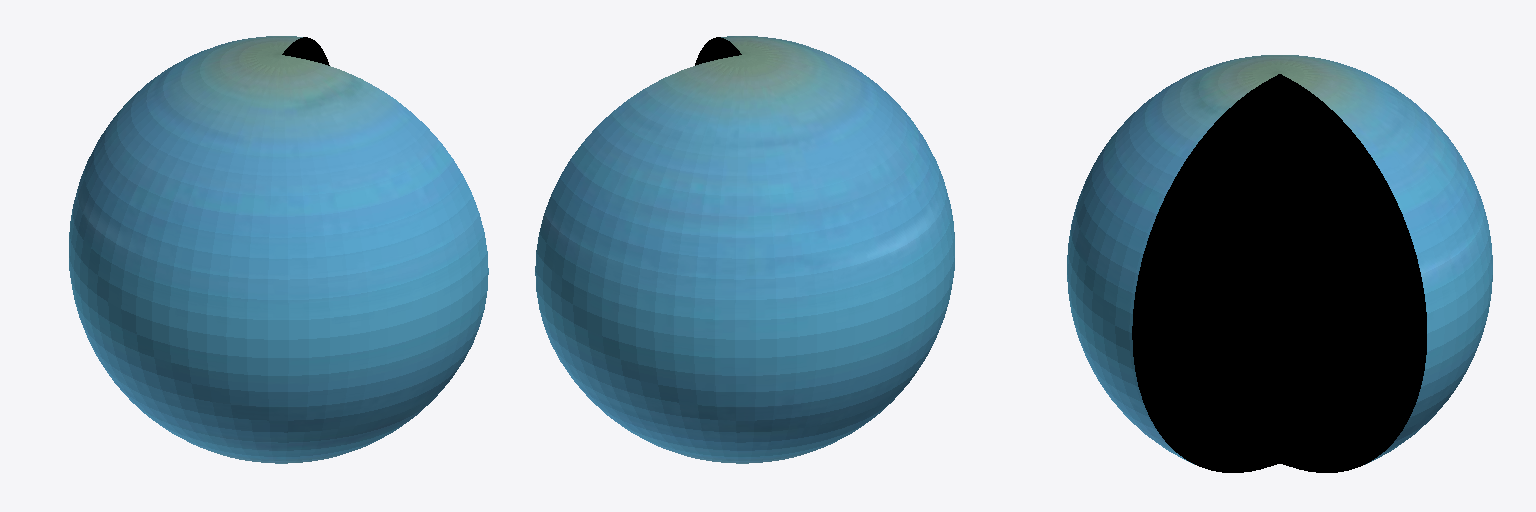
3 views of the same model, side by side, from view 1: azimuth 30°, elevation 25°; view 2: azimuth 150°, elevation 25°; view 3: azimuth 270°, elevation 25° (orthographic).
Parts seen in each view (by area): view 1: Sphere.001; view 2: Sphere.001; view 3: Sphere.001.
Part boxes in pixels (bbox=[...]): Sphere.001: bbox=[69, 36, 488, 463]; Sphere.001: bbox=[535, 36, 954, 463]; Sphere.001: bbox=[1067, 55, 1492, 472].
Bounding box in the file's own units: 43.6 × 51.07 × 50.63.
Materials: 4 (1 with a texture image).